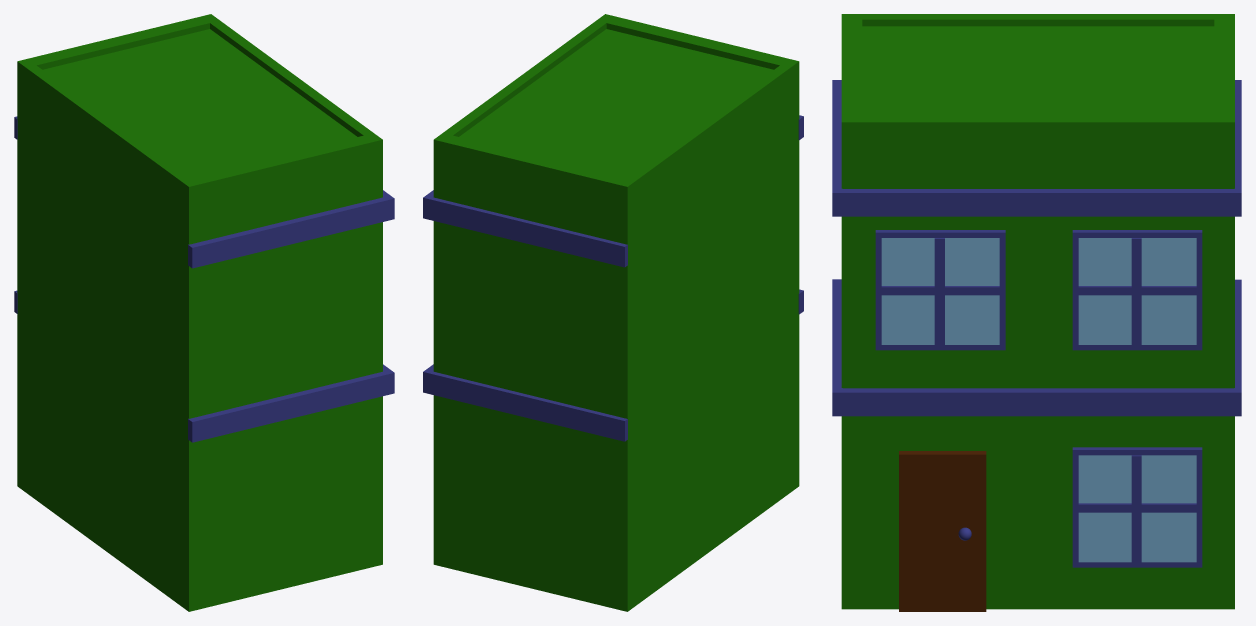
File: Green House.fbx
3 renders of one model, left to right at view 1: azimuth 30°, elevation 25°; view 2: azimuth 150°, elevation 25°; view 3: azimuth 270°, elevation 25°, orthographic. The views are drawn at different scales.
Parts seen in each view (by area): view 1: Cube, Cube.001, Cube.005; view 2: Cube, Cube.001, Cube.005; view 3: Cube, Cube.004, Cube.002, Cube.003, Cube.006, Cube.005, Cube.001.
Part boxes in pixels (box(x1,y1,x2,y2)): Cube: box(17, 14, 382, 611); Cube.001: box(14, 116, 394, 268); Cube.005: box(14, 290, 394, 442); Cube: box(433, 14, 799, 611); Cube.001: box(423, 115, 803, 267); Cube.005: box(423, 289, 803, 441); Cube: box(841, 14, 1234, 609); Cube.004: box(1072, 447, 1202, 567); Cube.002: box(875, 230, 1005, 350); Cube.003: box(1072, 230, 1202, 350); Cube.006: box(899, 451, 986, 611); Cube.005: box(832, 279, 1241, 416); Cube.001: box(832, 80, 1241, 216).
Size of the model in its own units: 698 by 1364 by 1039.
